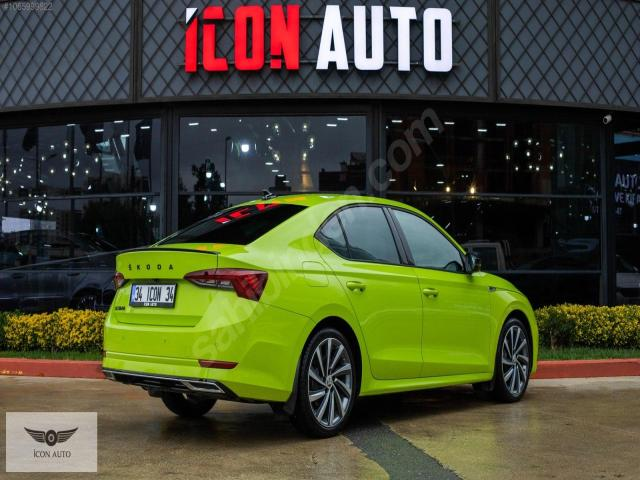plaka: (130, 284, 176, 307)
